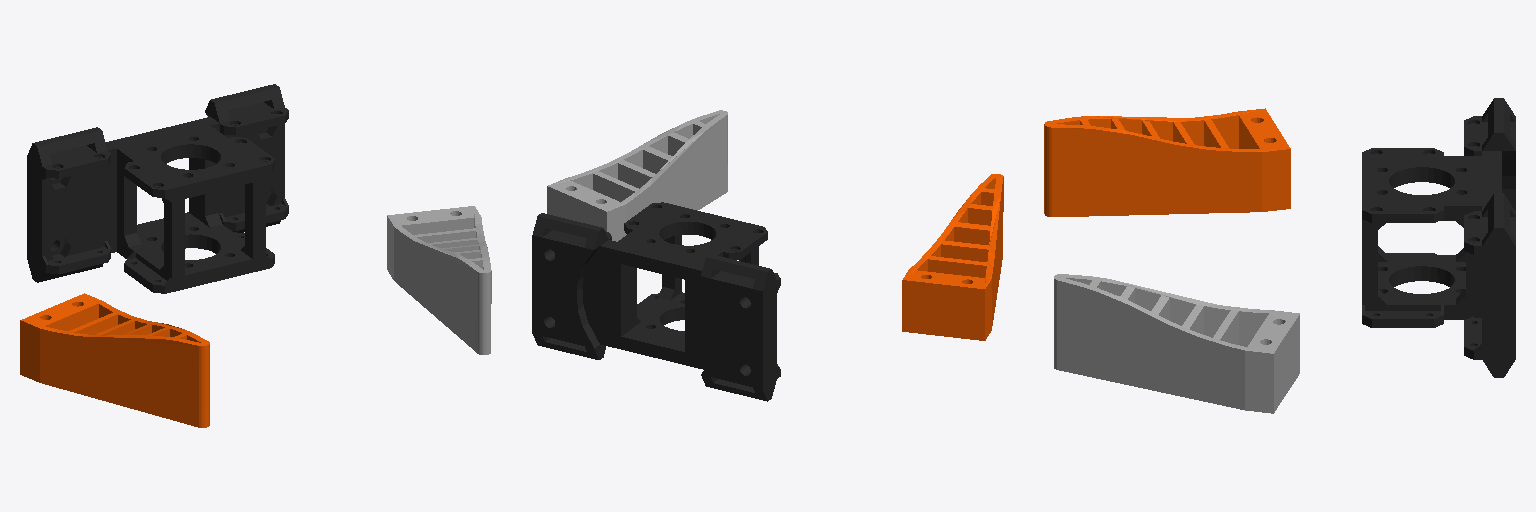
URDF robot description (lbr_iiwa):
<?xml version="1.0" ?>
<!-- ======================================================================= -->
<!-- | This document was autogenerated by xacro from lbr_iiwa.urdf.xacro   | -->
<!-- | Original xacro: https://github.com/rtkg/lbr_iiwa/archive/master.zip | -->
<!-- | EDITING THIS FILE BY HAND IS NOT RECOMMENDED                        | -->
<!-- | Changes ([author]):                                                 | -->
<!-- |   * Removed gazebo tags.                                            | -->
<!-- |   * Removed unused materials.                                       | -->
<!-- |   * Made mesh paths relative.                                       | -->
<!-- |   * Removed material fields from collision segments.                | -->
<!-- |   * Removed the self_collision_checking segment.                    | -->
<!-- |   * Removed transmission segments, since they didn't match the      | -->
<!-- |     convention, will have to added back later.                      | -->
<!-- ======================================================================= -->
<!--LICENSE:                                                                 -->
<!--Copyright (c) 2015, [author] & [author], AASS Research Center,  -->
<!--Orebro University, Sweden                                                -->
<!--All rights reserved.                                                     -->
<!--                                                                         -->
<!--Redistribution and use in source and binary forms, with or without       -->
<!--modification, are permitted provided that the following conditions are   -->
<!--met:                                                                     -->
<!--                                                                         -->
<!--1. Redistributions of source code must retain the above copyright notice,-->
<!--   this list of conditions and the following disclaimer.                 -->
<!--                                                                         -->
<!--2. Redistributions in binary form must reproduce the above copyright     -->
<!--   notice, this list of conditions and the following disclaimer in the   -->
<!--   documentation and/or other materials provided with the distribution.  -->
<!--                                                                         -->
<!--THIS SOFTWARE IS PROVIDED BY THE COPYRIGHT [author] "AS  -->
<!--IS" AND ANY EXPRESS OR IMPLIED WARRANTIES, INCLUDING, BUT NOT LIMITED TO,-->
<!--THE IMPLIED WARRANTIES OF MERCHANTABILITY AND FITNESS FOR A PARTICULAR   -->
<!--PURPOSE ARE DISCLAIMED. IN NO EVENT SHALL THE COPYRIGHT [author]        -->
<!--CONTRIBUTORS BE LIABLE FOR ANY DIRECT, INDIRECT, INCIDENTAL, SPECIAL,    -->
<!--EXEMPLARY, OR CONSEQUENTIAL DAMAGES (INCLUDING, BUT NOT LIMITED TO,      -->
<!--PROCUREMENT OF SUBSTITUTE GOODS OR SERVICES; LOSS OF USE, DATA, OR       -->
<!--PROFITS; OR BUSINESS INTERRUPTION) HOWEVER CAUSED AND ON ANY THEORY OF   -->
<!--LIABILITY, WHETHER IN CONTRACT, STRICT LIABILITY, OR TORT (INCLUDING     -->
<!--NEGLIGENCE OR OTHERWISE) ARISING IN ANY WAY OUT OF THE USE OF THIS       -->
<!--SOFTWARE, EVEN IF ADVISED OF THE POSSIBILITY OF SUCH DAMAGE.             -->
<robot name="lbr_iiwa" xmlns:xacro="http://www.ros.org/wiki/xacro">
  <!-- Import Rviz colors -->
  <mujoco>
    <compiler meshdir="uhvat_description/visual" balanceinertia="false" discardvisual="false"/>
  </mujoco>
  <material name="Grey">
    <color rgba="0.2 0.2 0.2 1.0"/>
  </material>
  <material name="Orange">
    <color rgba="1.0 0.423529411765 0.0392156862745 1.0"/>
  </material>
  <material name="Blue">
  <color rgba="0.5 0.7 1.0 1.0"/>      
</material>
  <link name="root">
    <inertial>
      <origin rpy="-0.03143 -0.00602 -0.37822" xyz="0.00100 -0.00200 0.29000"/>
      <mass value="4.00000"/>
      <inertia ixx="0.05139" ixy="0" ixz="0" iyy="0.05015" iyz="0" izz="0.04715"/>
    </inertial>
  </link>
  <link name="root1">
    <inertial>
      <mass value="0.01"/>
      <inertia ixx="1e-4" ixy="0.0" ixz="0.0" iyy="1e-4" iyz="0.0" izz="1e-4"/>
    </inertial>
  </link>
  <link name="root2">
    <inertial>
      <mass value="0.01"/>
      <inertia ixx="1e-4" ixy="0.0" ixz="0.0" iyy="1e-4" iyz="0.0" izz="1e-4"/>
    </inertial>
  </link>
  <link name="root3">
    <inertial>
      <mass value="0.01"/>
      <inertia ixx="1e-4" ixy="0.0" ixz="0.0" iyy="1e-4" iyz="0.0" izz="1e-4"/>
    </inertial>
  </link>
  <link name="root4">
    <inertial>
      <mass value="0.01"/>
      <inertia ixx="1e-4" ixy="0.0" ixz="0.0" iyy="1e-4" iyz="0.0" izz="1e-4"/>
    </inertial>
  </link>
  <link name="root5">
    <inertial>
      <mass value="0.01"/>
      <inertia ixx="1e-4" ixy="0.0" ixz="0.0" iyy="1e-4" iyz="0.0" izz="1e-4"/>
    </inertial>
  </link>

  <joint name="x_joint" type="prismatic">
    <parent link="root"/>
    <child link="root1"/>
    <axis xyz="1 0 0"/>
    <limit lower="-5" upper="5"/>
  </joint>
  <joint name="y_joint" type="prismatic">
    <parent link="root1"/>
    <child link="root2"/>
    <axis xyz="0 1 0"/>
    <limit lower="-5" upper="5"/>
  </joint>
  <joint name="z_joint" type="prismatic">
    <parent link="root2"/>
    <child link="root3"/>
    <axis xyz="0 0 1"/>
    <limit lower="-5" upper="5"/>
  </joint>
  <joint name="x_rotation_joint" type="revolute">
    <parent link="root3"/>
    <child link="root4"/>
    <axis xyz="1 0 0"/>
    <limit lower="-3.14" upper="3.14"/>
  </joint>
  <joint name="y_rotation_joint" type="revolute">
    <parent link="root4"/>
    <child link="root5"/>
    <axis xyz="0 1 0"/>
    <limit lower="-3.14" upper="3.14"/>
  </joint>
  <joint name="z_rotation_joint" type="revolute">
    <parent link="root5"/>
    <child link="uhvat_link_0"/>
    <axis xyz="0 0 1"/>
    <origin rpy="-0.00000 -0.00000 1.57079" xyz="0 0 0"/>
    <limit lower="-3.14" upper="3.14"/>
  </joint>

  <link name="uhvat_link_0">
    <inertial>
      <origin rpy="0 0 0" xyz="-1.40846398e-02  9.04628229e-07 -4.91359742e-06"/>
      <mass value="0.05020125376157147"/>
      <inertia ixx="4.61685605e-05" ixy="-7.88272268e-10" ixz="6.84094585e-10" iyy="1.88534477e-05" iyz="2.28758424e-09" izz="4.54452943e-05"/>
    </inertial>
    <visual>
      <origin rpy="0 0 0" xyz="0 0 0"/>
      <geometry>
        <mesh filename="uhvat_description/motor_mount_tiny.stl" scale="1 1 1"/>
      </geometry>
      <material name="Grey"/>
    </visual>
    <collision>
      <origin rpy="0 0 0" xyz="0 0 0"/>
      <geometry>
        <mesh filename="uhvat_description/motor_mount_tiny.stl" scale="1 1 1"/>
      </geometry>
    </collision>
  </link>
  <!-- left finger -->
  <joint name="uhvat_joint_1" type="prismatic">
    <origin rpy="0 0 1.3" xyz="-0.045 -0.075 0"/>
    <parent link="uhvat_link_0"/>
    <child link="uhvat_link_1"/>
    <axis xyz="1 0 0"/>
    <limit effort="2" lower="0.0" upper="0.06" velocity="0.5"/>
    <dynamics damping="0.4" friction="0.4"/>
  </joint>
  <link name="uhvat_link_1">
    <inertial>
      <origin rpy="0 0 0" xyz="-0.01501654  0.02981859  0.01176479"/>
      <mass value="0.020558017345724853"/>
      <inertia ixx="1.10355285e-05" ixy="-3.96153698e-08" ixz="-3.83755623e-09" iyy="2.18604555e-06" iyz="-7.76381797e-07" izz="1.11699254e-05"/>
    </inertial>
    <visual>
      <origin rpy="0 0 0" xyz="0.015 0.025 -0.02"/>
      <geometry>
        <mesh filename="uhvat_description/festolike_finger_tiny.stl" scale="1 1 1"/>
      </geometry>
      <material name="Green"/>
    </visual>
    <collision>
      <origin rpy="0 0 0" xyz="0.015 0.025 -0.02"/>
      <geometry>
        <mesh filename="uhvat_description/festolike_finger_tiny.stl" scale="1 1 1"/>
      </geometry>
    </collision>
  </link>
  <joint name="uhvat_joint_1_tip" type="fixed">
    <origin rpy="0 0 0" xyz="-0.0153 0.074 0.021"/>
    <parent link="uhvat_link_1"/>
    <child link="uhvat_link_1_tip"/>
  </joint>
  <link name="uhvat_link_1_tip">
  </link>
  
  <!-- right finger -->
  <joint name="uhvat_joint_2" type="prismatic">
    <origin rpy="0 0 1.83" xyz="-0.045 0.075 0"/>
    <parent link="uhvat_link_0"/>
    <child link="uhvat_link_2"/>
    <axis xyz="1 0 0"/>
    <limit effort="2" lower="-0.06" upper="0.0" velocity="0.5"/>
    <dynamics damping="0.4" friction="0.4"/>
  </joint>
  <link name="uhvat_link_2">
    <inertial>
      <origin rpy="0 0 0" xyz="-0.01501654  0.02981859  0.01176479"/>
      <mass value="0.020558017345724853"/>
      <inertia ixx="1.10355285e-05" ixy="-3.96153698e-08" ixz="-3.83755623e-09" iyy="2.18604555e-06" iyz="-7.76381797e-07" izz="1.11699254e-05"/>
    </inertial>
    <visual>
      <origin rpy="0 0 0" xyz="0.025 0.025 -0.02"/>
      <geometry>
        <mesh filename="uhvat_description/festolike_finger_tiny.stl" scale="1 1 1"/>
      </geometry>
      <material name="Orange"/>
    </visual>
    <collision>
      <origin rpy="0 0 0" xyz="0.025 0.025 -0.02"/>
      <geometry>
        <mesh filename="uhvat_description/festolike_finger_tiny.stl" scale="1 1 1"/>
      </geometry>
    </collision>
  </link>
  <joint name="uhvat_joint_2_tip" type="fixed">
    <origin rpy="0 0 0" xyz="-0.0153 0.074 0.021"/>
    <parent link="uhvat_link_2"/>
    <child link="uhvat_link_2_tip"/>
  </joint>
  <link name="uhvat_link_2_tip">
  </link>
  <link name="palm_center">
  </link>
  <joint name="palm_center_joint" type="fixed">
    <parent link="uhvat_link_0"/>
    <child link="palm_center"/>
    <origin rpy="3.141592653589793 3.141592653589793 3.141592653589793" xyz="0 0 0.1"/>
  </joint>
</robot>

--- Render facts (derived) ---
3 views of the same robot in one strip: view 1: azimuth 30°, elevation 25°; view 2: azimuth 150°, elevation 25°; view 3: azimuth 270°, elevation 25° (orthographic).
Robot: lbr_iiwa — 12 links, 11 joints (3 revolute, 5 prismatic, 3 fixed); root link root; default pose: every joint at zero.
Links seen in each view (by area): view 1: uhvat_link_0, uhvat_link_2, uhvat_link_1; view 2: uhvat_link_0, uhvat_link_1, uhvat_link_2; view 3: uhvat_link_0, uhvat_link_1, uhvat_link_2.
Boxes of the visible links, x1,y1,x2,y2 form: uhvat_link_0: [27, 84, 288, 293]; uhvat_link_2: [20, 293, 209, 427]; uhvat_link_1: [387, 206, 491, 354]; uhvat_link_0: [532, 202, 780, 401]; uhvat_link_1: [547, 110, 727, 241]; uhvat_link_2: [902, 174, 1003, 340]; uhvat_link_0: [1362, 98, 1515, 377]; uhvat_link_1: [1054, 274, 1299, 413]; uhvat_link_2: [1044, 108, 1290, 216].
Bounding box of the posed robot: 0.1755 × 0.1424 × 0.05 m (x, y, z).
3 mesh visuals loaded from 2 distinct referenced files (2 binary STL).